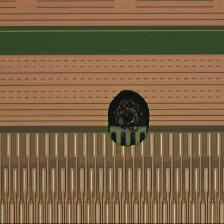PARTICLE: (95, 85, 163, 153)
